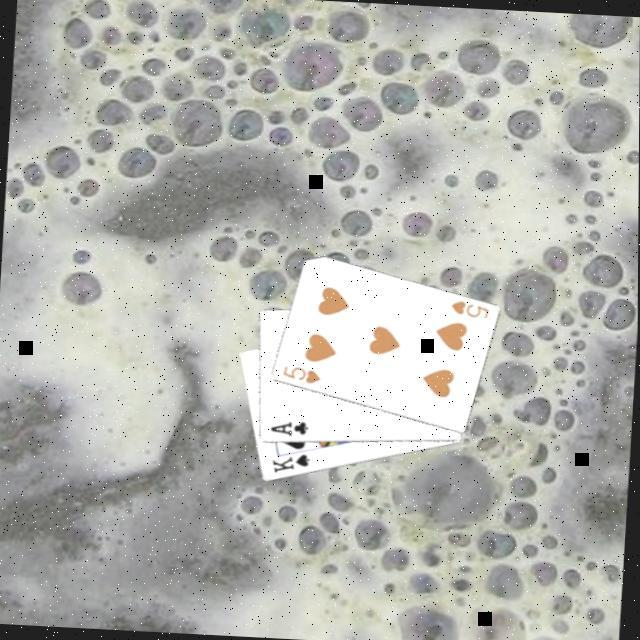5H: (278, 360, 322, 385), (446, 296, 490, 320)
AC: (266, 414, 310, 438)
KS: (268, 448, 312, 477)
